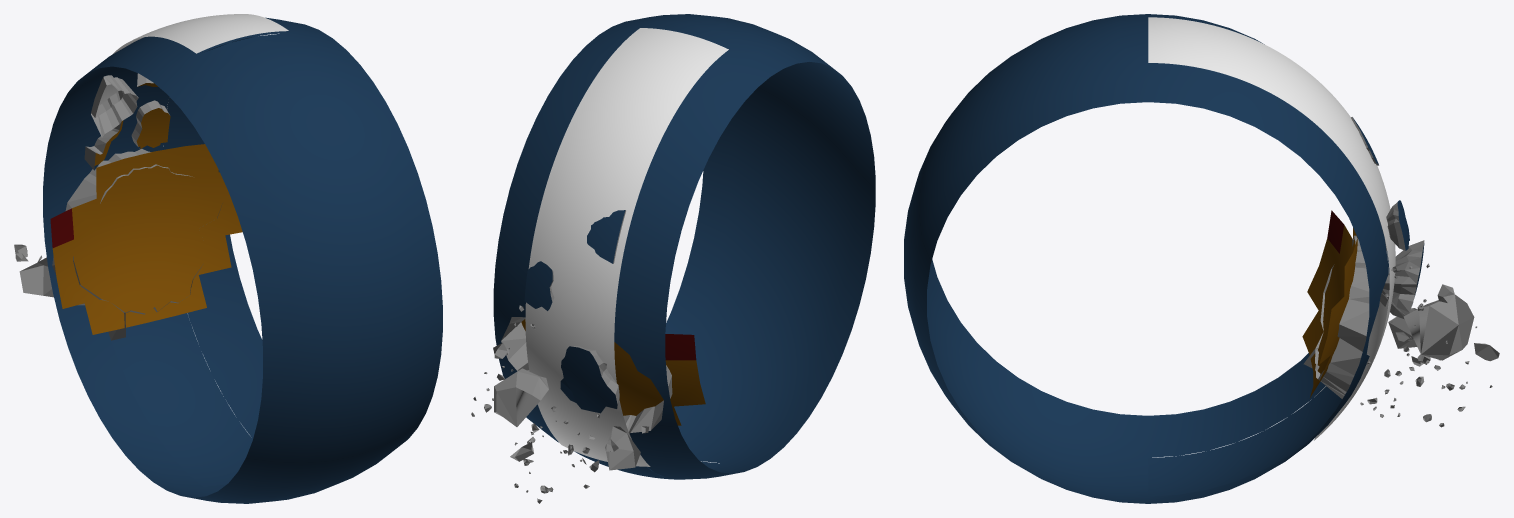
Rendered from EarthHigh.FBX.
The picture shows the model from 3 angles, left to right: view 1: azimuth 30°, elevation 25°; view 2: azimuth 150°, elevation 25°; view 3: azimuth 270°, elevation 25°; orthographic projection. The views are drawn at different scales.
Visible parts, largest first — view 1: EarthHight, EarthHighClouds; view 2: EarthHight, EarthHighClouds; view 3: EarthHight, EarthHighClouds.
Boxes of the visible parts, box(x1,y1,x2,y2) form: EarthHight: box(14, 17, 442, 503); EarthHighClouds: box(98, 14, 288, 341); EarthHight: box(471, 14, 875, 503); EarthHighClouds: box(525, 28, 728, 466); EarthHight: box(904, 14, 1499, 503); EarthHighClouds: box(1148, 17, 1395, 440).
Size of the model in its own units: 0.0643 by 0.1348 by 0.163.
Materials: 1 (1 with a texture image).
